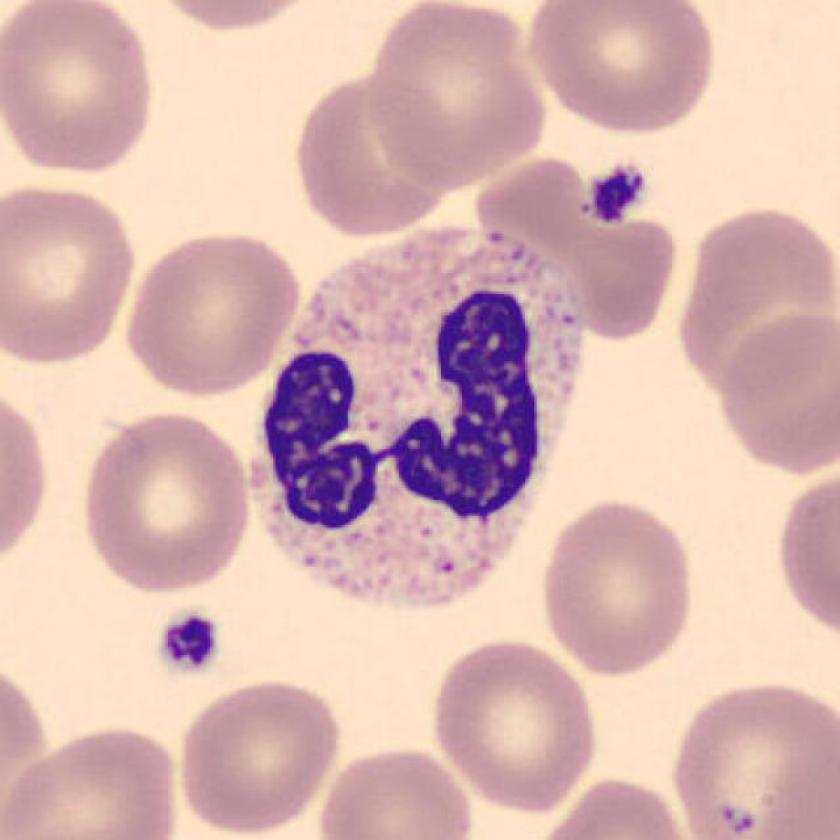neutrophil: (254, 228, 581, 604)
